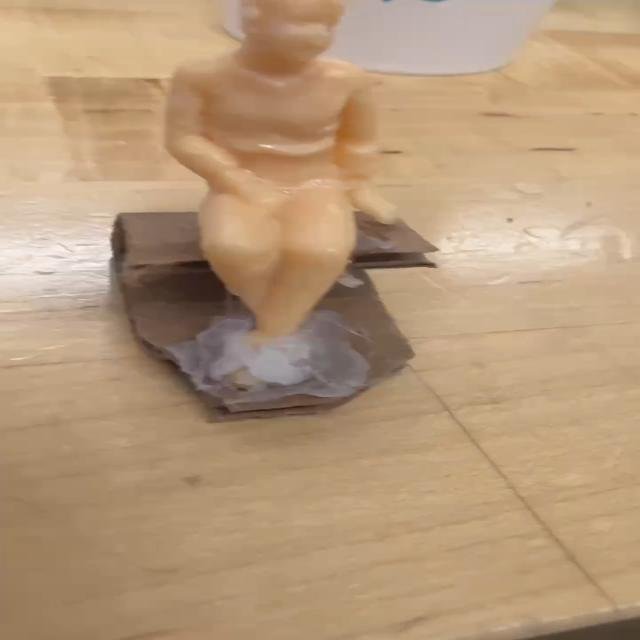Unauthorized: (160, 0, 400, 375)
